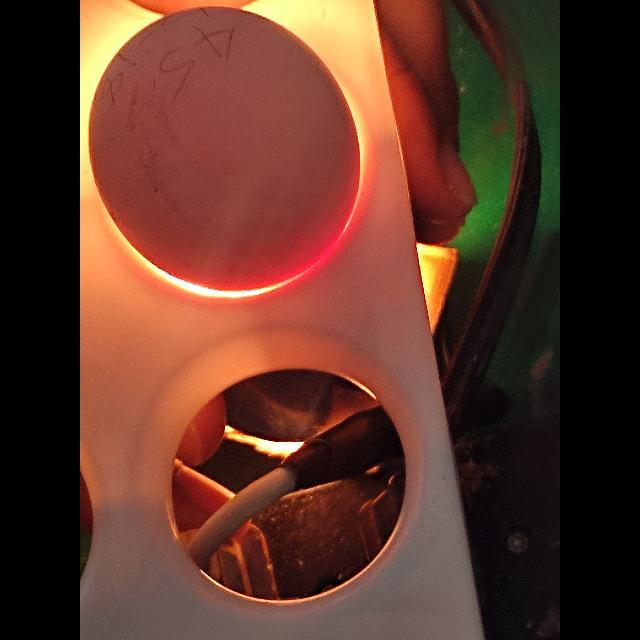Fertile: (87, 0, 365, 286)
